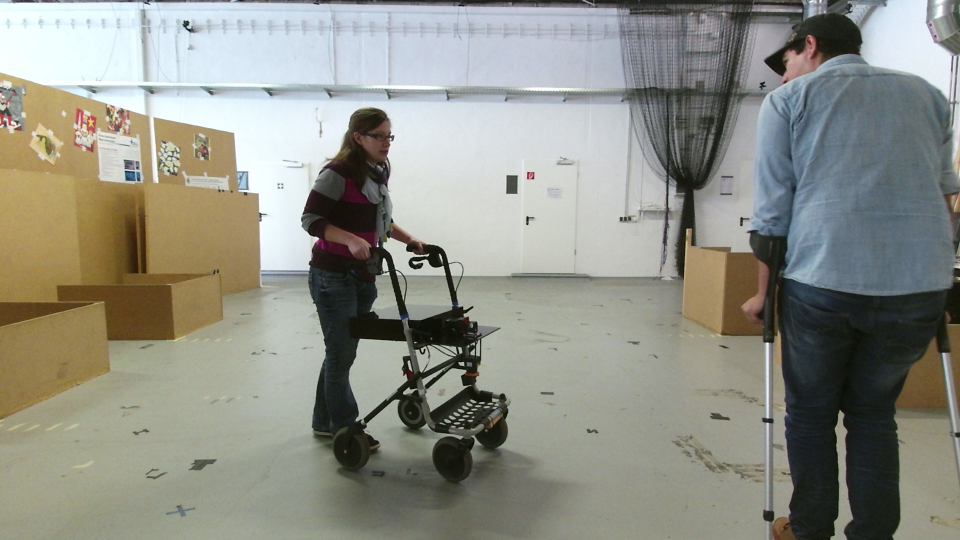crutches: (738, 8, 960, 540)
